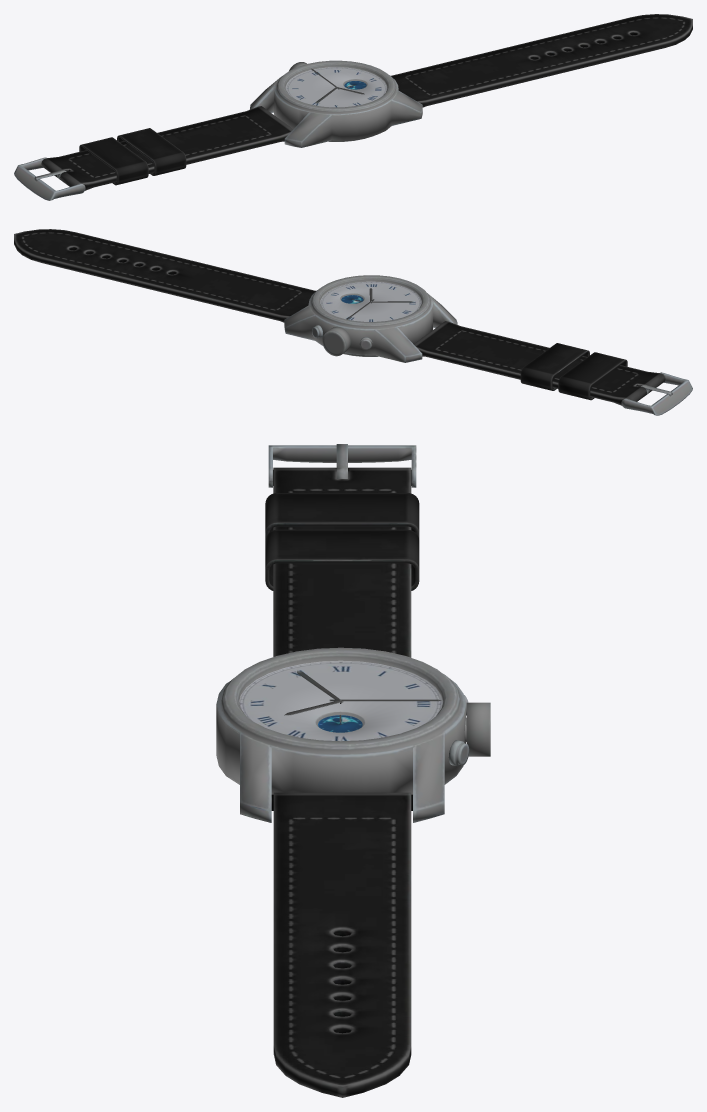
The model's file is minimal-leather-watch.glb.
3 renders of one model, top to bottom at view 1: azimuth 30°, elevation 25°; view 2: azimuth 150°, elevation 25°; view 3: azimuth 270°, elevation 25°, orthographic. The views are drawn at different scales.
Visible parts, largest first — view 1: Object_2; view 2: Object_2; view 3: Object_2.
Boxes of the visible parts, x1,y1,x2,y2 form: Object_2: (14,14,692,200); Object_2: (14,229,692,415); Object_2: (216,444,490,1097).
Size of the model in its own units: 1.93 by 0.093 by 0.3457.
Materials: 1 (1 with a texture image).
